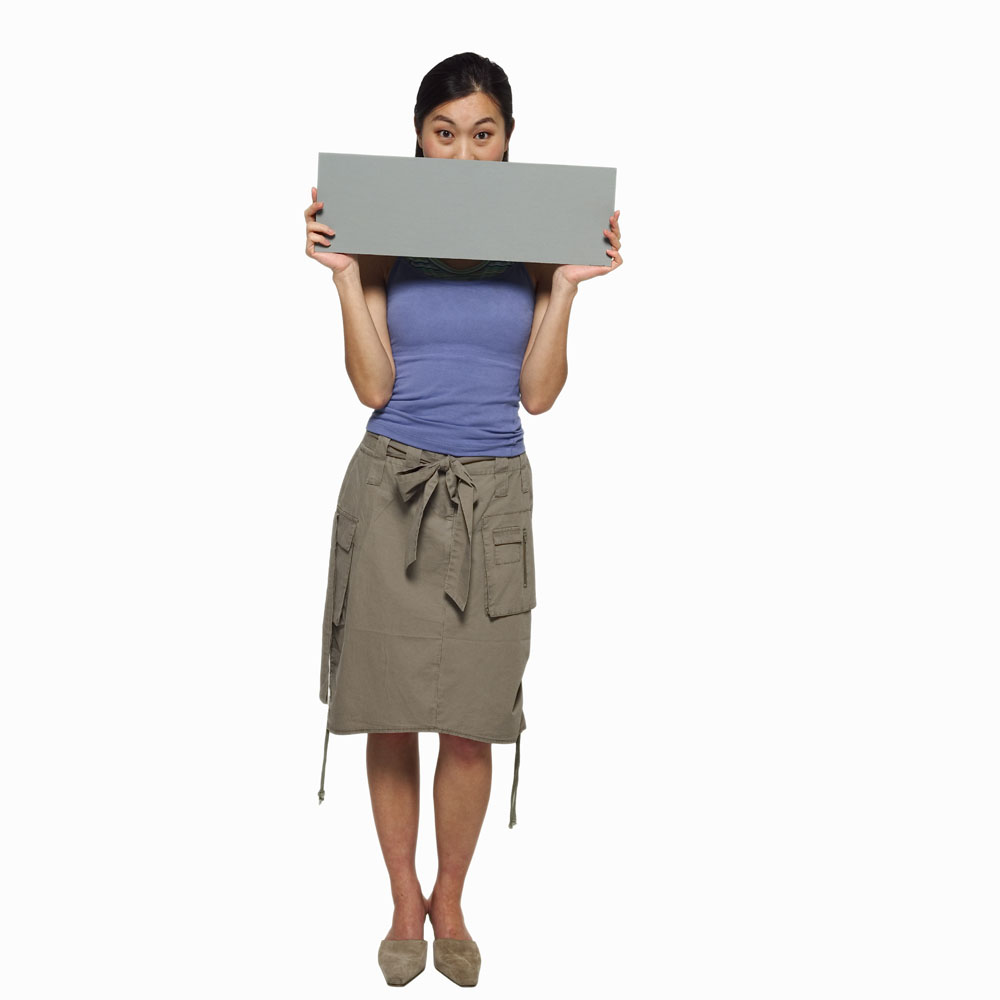face: (422, 98, 505, 193)
